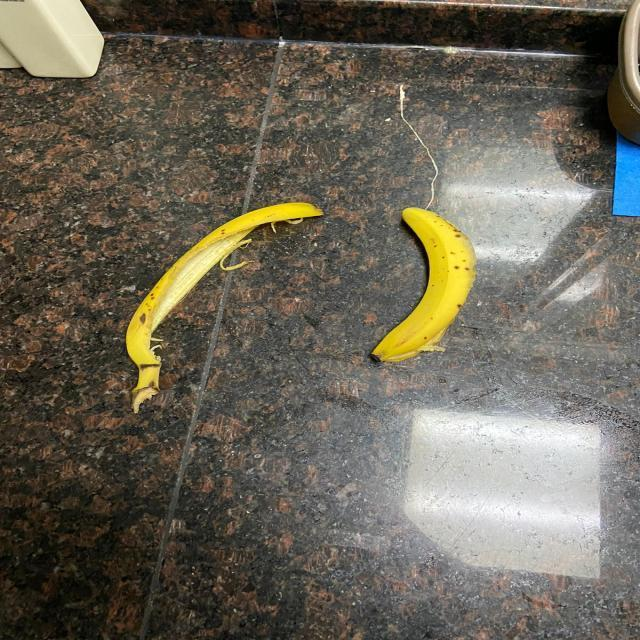banana-peel: (124, 200, 324, 414), (368, 205, 476, 363)
